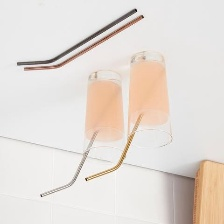drinking_straw: (14, 6, 146, 75), (35, 127, 101, 201), (82, 108, 143, 185)
glass: (121, 47, 176, 152), (77, 67, 128, 164)
